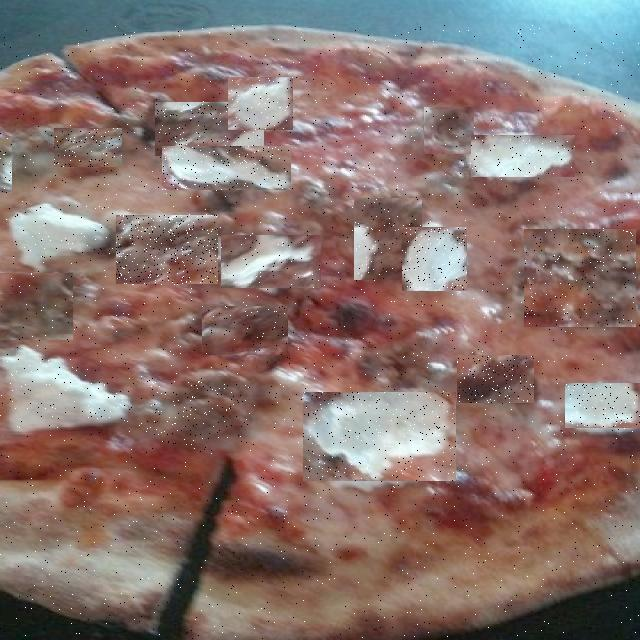Beef: (524, 229, 636, 327), (116, 216, 218, 286), (141, 382, 250, 446), (155, 102, 264, 156), (354, 198, 422, 280), (0, 274, 73, 342), (202, 306, 288, 355), (457, 355, 534, 403), (54, 128, 122, 167), (424, 108, 474, 156)
Cheese: (303, 392, 456, 481), (0, 349, 130, 434), (13, 205, 114, 265), (162, 147, 291, 190), (221, 235, 321, 288), (471, 135, 575, 177), (402, 227, 467, 291), (228, 77, 293, 130), (565, 383, 640, 428), (0, 138, 12, 193)
Pizza: (0, 26, 640, 640)
